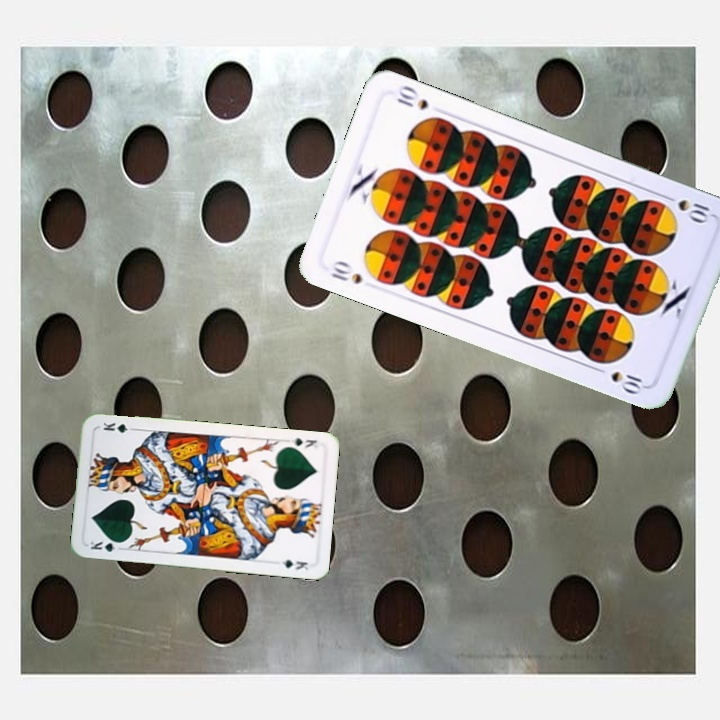GK: (86, 536, 126, 555), (287, 434, 320, 451)
S10: (659, 190, 715, 225), (326, 256, 365, 287)
